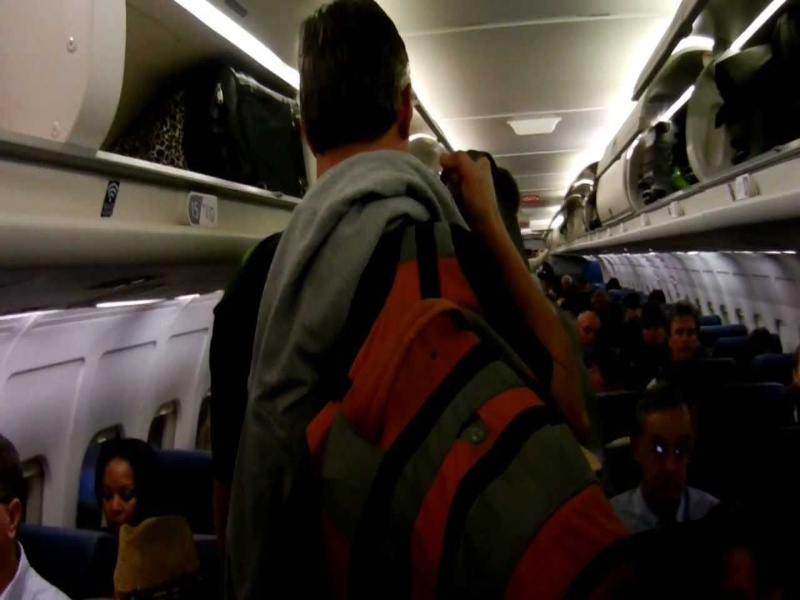close_bin: (87, 2, 320, 203), (593, 156, 640, 232)
open_bin: (651, 9, 800, 178), (614, 45, 720, 213), (570, 164, 605, 234), (546, 210, 579, 250)
